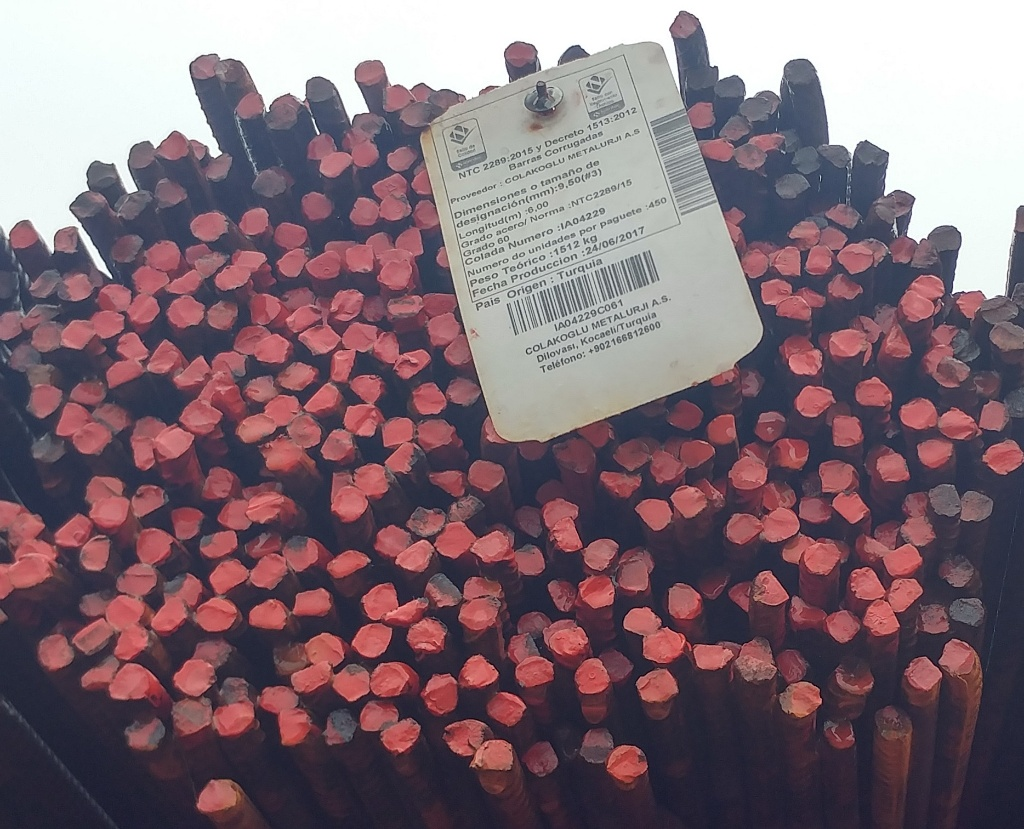dipstick: (729, 636, 780, 689), (603, 741, 649, 788), (828, 654, 877, 697), (432, 519, 478, 562), (774, 681, 824, 720), (190, 776, 240, 815), (634, 664, 681, 705), (901, 653, 949, 693), (936, 634, 980, 677), (367, 661, 419, 697), (175, 398, 223, 437), (748, 568, 789, 613), (661, 581, 707, 621), (442, 719, 488, 759), (468, 738, 519, 774), (89, 398, 137, 436), (980, 438, 1023, 480), (266, 637, 312, 676), (105, 664, 153, 701), (872, 703, 915, 744), (153, 421, 194, 464), (187, 208, 235, 244), (798, 537, 841, 577), (789, 590, 829, 633), (456, 654, 500, 693), (827, 492, 876, 527), (209, 699, 254, 737), (845, 565, 892, 601), (350, 623, 398, 658), (205, 558, 250, 595), (262, 435, 307, 472), (640, 627, 686, 663), (25, 429, 72, 464), (935, 549, 976, 589), (574, 570, 615, 610), (548, 516, 588, 557), (53, 510, 94, 550), (403, 617, 445, 656), (817, 456, 860, 494), (862, 599, 905, 637), (115, 562, 161, 597), (576, 725, 616, 765), (484, 689, 525, 728), (276, 708, 315, 749), (171, 697, 212, 736), (122, 718, 169, 752), (884, 575, 927, 612), (823, 607, 866, 644), (172, 658, 215, 695), (724, 455, 768, 491), (302, 632, 346, 668), (70, 420, 114, 456), (662, 399, 707, 434), (194, 597, 239, 632), (581, 534, 620, 574), (424, 572, 465, 610), (323, 706, 361, 747), (72, 618, 113, 656), (635, 495, 677, 532), (380, 717, 422, 754), (164, 292, 206, 329), (327, 485, 370, 521), (243, 524, 287, 559), (302, 381, 346, 416), (551, 437, 596, 471), (362, 582, 401, 621), (615, 554, 653, 594), (422, 675, 459, 716), (394, 540, 435, 577), (299, 323, 342, 358), (276, 360, 323, 392), (457, 595, 501, 629), (9, 554, 53, 588), (897, 514, 945, 545), (53, 401, 98, 434), (796, 491, 835, 529), (899, 290, 940, 326), (793, 382, 834, 418), (326, 286, 367, 322), (597, 467, 646, 497), (7, 512, 49, 547), (105, 594, 148, 628), (19, 299, 66, 330), (125, 265, 172, 296), (288, 660, 332, 693), (381, 442, 425, 475), (597, 642, 635, 680), (764, 506, 801, 545), (775, 645, 814, 682), (151, 597, 190, 634), (38, 634, 75, 673), (79, 653, 118, 690), (216, 495, 255, 532), (442, 331, 479, 370), (23, 382, 62, 419), (145, 337, 182, 376), (57, 268, 96, 305), (938, 405, 978, 441), (853, 373, 893, 409), (167, 505, 207, 541), (137, 527, 173, 567), (272, 215, 312, 251), (899, 395, 940, 430), (769, 437, 810, 472), (252, 167, 293, 202), (6, 537, 61, 563), (931, 352, 973, 386), (725, 511, 767, 545), (344, 403, 386, 437), (261, 394, 303, 428), (573, 656, 606, 699), (358, 698, 401, 731), (510, 657, 557, 687), (950, 592, 988, 629), (929, 482, 965, 521), (959, 486, 995, 525), (250, 554, 289, 590), (356, 461, 392, 500), (134, 482, 170, 521), (5, 339, 44, 375), (822, 714, 857, 754), (80, 534, 115, 574), (298, 186, 339, 220), (624, 604, 666, 637), (62, 316, 99, 353), (520, 741, 558, 777), (332, 664, 370, 700), (286, 412, 324, 448), (510, 504, 549, 539), (172, 355, 211, 390), (209, 350, 253, 381), (325, 549, 372, 578), (973, 398, 1013, 432), (115, 187, 155, 221), (64, 377, 109, 407), (549, 627, 591, 659), (284, 303, 326, 335), (880, 544, 923, 575), (372, 525, 415, 556), (987, 319, 1024, 355), (283, 535, 320, 571), (425, 309, 462, 345), (143, 235, 180, 271), (29, 318, 67, 353), (671, 486, 711, 519), (258, 685, 302, 715), (244, 291, 284, 324), (85, 310, 129, 340), (24, 269, 64, 302), (105, 359, 150, 388), (757, 275, 799, 306), (411, 380, 447, 416), (879, 322, 914, 359), (915, 599, 952, 634), (247, 490, 284, 525), (377, 190, 415, 224), (913, 437, 956, 467), (212, 262, 258, 290), (249, 598, 288, 631), (50, 223, 83, 262), (787, 347, 827, 379), (531, 476, 575, 505), (386, 597, 430, 626), (776, 334, 825, 360), (416, 419, 457, 450), (199, 528, 240, 559), (234, 322, 275, 353), (105, 233, 146, 264), (468, 530, 510, 560), (199, 467, 235, 502), (83, 474, 128, 502), (204, 297, 240, 332), (203, 151, 239, 186), (828, 415, 865, 449), (468, 458, 505, 492), (317, 148, 354, 182), (305, 129, 342, 163), (270, 244, 308, 277), (190, 640, 238, 666), (690, 643, 733, 672), (89, 495, 132, 524), (401, 99, 444, 128), (440, 494, 486, 521), (924, 222, 964, 253), (679, 438, 719, 469), (406, 506, 446, 537), (304, 250, 344, 281), (977, 295, 1018, 325), (236, 413, 277, 443), (854, 138, 889, 173), (762, 475, 797, 510), (696, 562, 730, 598), (319, 428, 355, 462), (649, 450, 686, 483), (153, 176, 190, 209), (346, 194, 383, 227), (837, 244, 879, 273), (773, 295, 815, 324), (545, 576, 577, 614), (5, 219, 43, 251), (503, 632, 546, 660), (295, 588, 335, 618), (393, 347, 433, 377), (341, 321, 381, 351), (718, 114, 754, 147), (876, 452, 912, 485), (154, 130, 190, 163), (444, 376, 481, 408), (98, 281, 135, 313), (85, 159, 122, 191), (501, 40, 539, 71), (612, 437, 650, 468), (214, 675, 252, 706), (113, 629, 151, 660), (129, 412, 171, 440), (351, 375, 390, 405), (420, 288, 459, 318), (771, 170, 811, 199), (343, 243, 377, 277), (707, 412, 740, 447), (512, 543, 547, 576), (394, 223, 427, 258), (379, 260, 415, 292), (428, 468, 466, 498), (251, 333, 289, 363), (542, 495, 584, 522), (751, 411, 790, 440), (245, 374, 284, 403), (191, 248, 236, 273), (830, 268, 864, 301), (909, 273, 949, 301), (922, 339, 954, 374), (970, 366, 1005, 398), (576, 418, 616, 446), (163, 266, 203, 294), (228, 246, 271, 272), (831, 328, 867, 359), (950, 326, 981, 362), (780, 532, 816, 563), (380, 416, 416, 447), (733, 142, 770, 172), (899, 488, 936, 518), (371, 172, 410, 200), (305, 73, 338, 106), (183, 49, 218, 80), (127, 292, 162, 323), (385, 141, 420, 172), (770, 247, 806, 277), (80, 588, 116, 618), (66, 189, 106, 216), (411, 165, 441, 201), (350, 108, 386, 138), (684, 65, 722, 93), (803, 244, 836, 276), (236, 203, 268, 236), (958, 286, 989, 320), (668, 10, 703, 40), (819, 143, 855, 172), (823, 203, 863, 229), (351, 58, 388, 86), (116, 333, 154, 360), (23, 363, 61, 390), (277, 286, 315, 313), (371, 330, 402, 363), (351, 138, 382, 171), (740, 440, 774, 470), (214, 58, 249, 87), (786, 220, 825, 246), (514, 611, 558, 634), (380, 84, 416, 112), (331, 348, 358, 385), (870, 302, 902, 333), (848, 312, 881, 342), (715, 73, 749, 102), (414, 199, 443, 233), (462, 576, 503, 600), (338, 125, 373, 153), (911, 238, 942, 269), (125, 138, 156, 169), (685, 99, 718, 128), (727, 577, 756, 610), (232, 92, 266, 120), (784, 58, 818, 86), (873, 514, 901, 548), (129, 435, 157, 469), (703, 136, 738, 163), (180, 241, 216, 267), (738, 97, 775, 122), (738, 366, 766, 398), (385, 294, 419, 320), (889, 189, 918, 219), (738, 249, 769, 277), (825, 394, 858, 420), (795, 282, 825, 310), (801, 467, 829, 497), (266, 103, 298, 129), (873, 193, 899, 225), (792, 145, 821, 173), (361, 230, 396, 253), (1, 310, 25, 342), (752, 88, 785, 111), (889, 236, 916, 264), (818, 223, 849, 247), (429, 86, 462, 108), (748, 133, 789, 150), (520, 440, 551, 462), (745, 234, 780, 253), (720, 202, 748, 225), (931, 321, 958, 343), (803, 210, 829, 227)
